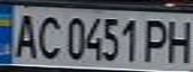0: (63, 14, 87, 61)
1: (118, 16, 142, 63)
4: (84, 15, 106, 62)
5: (103, 15, 124, 62)
A: (9, 10, 42, 60)
C: (33, 11, 63, 61)
H: (160, 16, 193, 64)
P: (139, 16, 172, 63)
